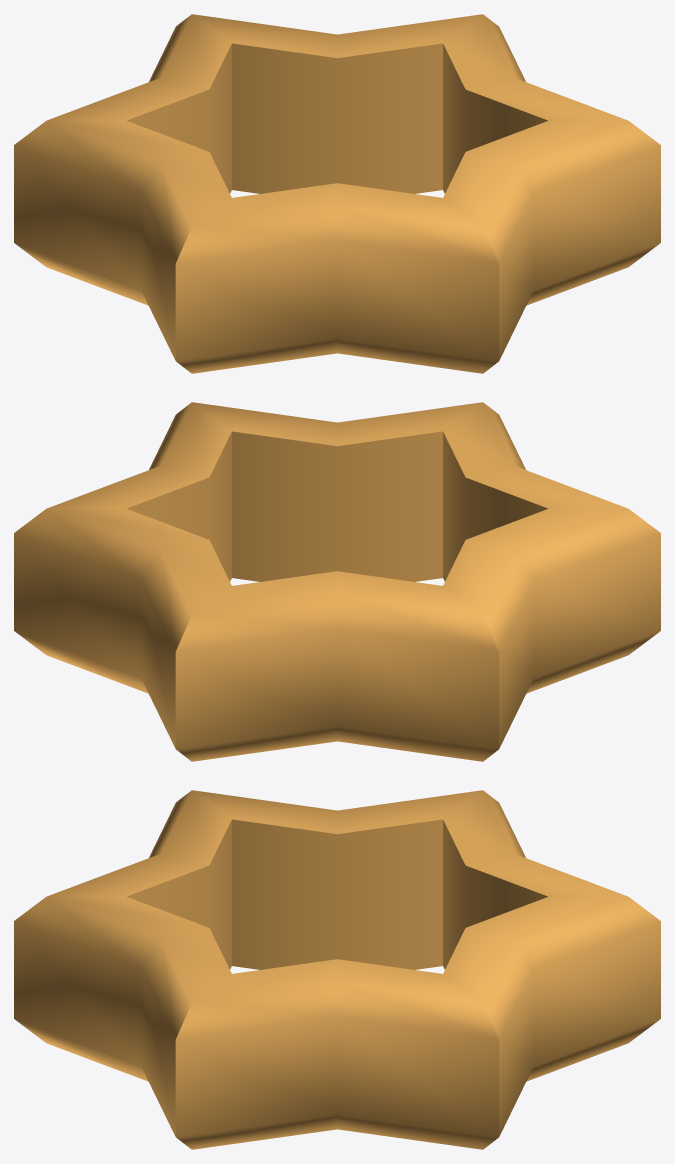
Rendered from Star_6P_06.fbx.
3 views of the same model, one above another, from view 1: azimuth 30°, elevation 25°; view 2: azimuth 150°, elevation 25°; view 3: azimuth 270°, elevation 25° (orthographic).
Visible parts, largest first — view 1: Star_6P_06; view 2: Star_6P_06; view 3: Star_6P_06.
Boxes of the visible parts, x1,y1,x2,y2 form: Star_6P_06: [14, 14, 660, 373]; Star_6P_06: [14, 402, 660, 761]; Star_6P_06: [14, 790, 660, 1149].
Size of the model in its own units: 346 by 100 by 400.
